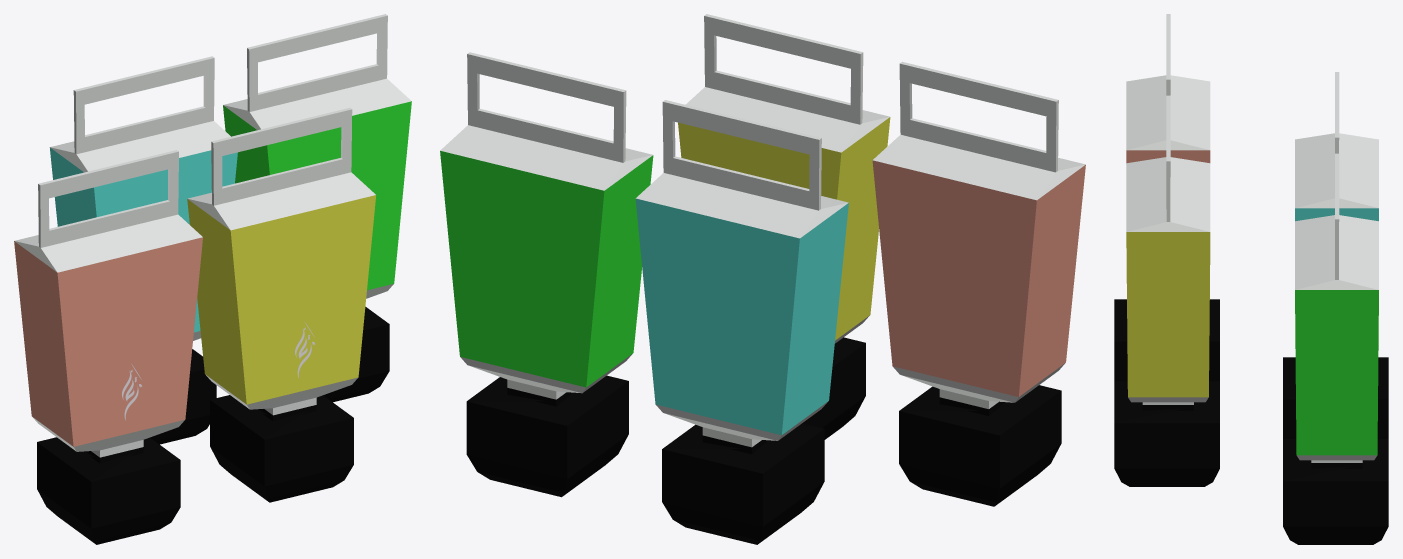
File: water_color.glb
The picture shows the model from 3 angles, left to right: view 1: azimuth 30°, elevation 25°; view 2: azimuth 150°, elevation 25°; view 3: azimuth 270°, elevation 25°; orthographic projection. The views are drawn at different scales.
Visible parts, largest first — view 1: Cube.001, Cube, Cube.003, Cube.002; view 2: Cube.001, Cube.002, Cube.003, Cube; view 3: Cube, Cube.003, Cube.001, Cube.002.
Boxes of the visible parts, box(x1,y1,x2,y2) form: Cube.001: box(14, 150, 202, 544); Cube: box(187, 107, 376, 502); Cube.003: box(223, 14, 411, 402); Cube.002: box(49, 56, 237, 444); Cube.001: box(872, 61, 1085, 506); Cube.002: box(635, 100, 848, 544); Cube.003: box(440, 52, 653, 497); Cube: box(678, 14, 890, 439); Cube: box(1114, 95, 1219, 486); Cube.003: box(1283, 153, 1388, 544); Cube.001: box(1114, 14, 1219, 380); Cube.002: box(1283, 72, 1388, 438).
Bounding box in the file's own units: 8 × 6.14 × 4.44.
Materials: 20 (4 with a texture image).
